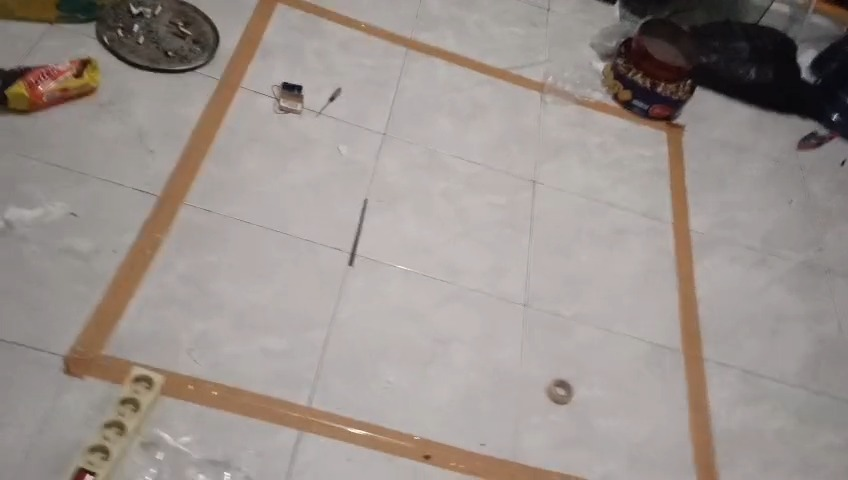floor marking: (65, 0, 543, 383), (573, 97, 717, 479), (157, 369, 584, 479)
